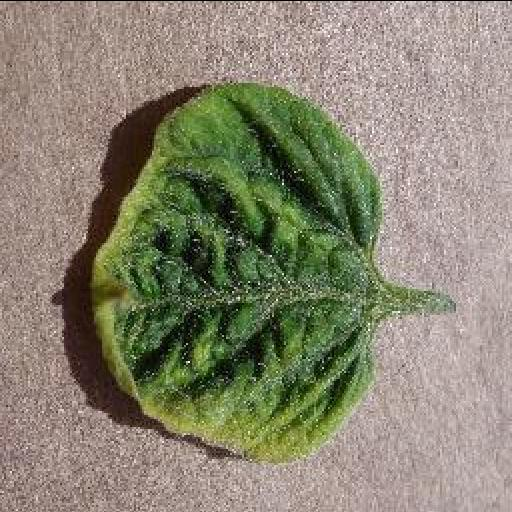disease_tomato: (86, 77, 388, 463)
